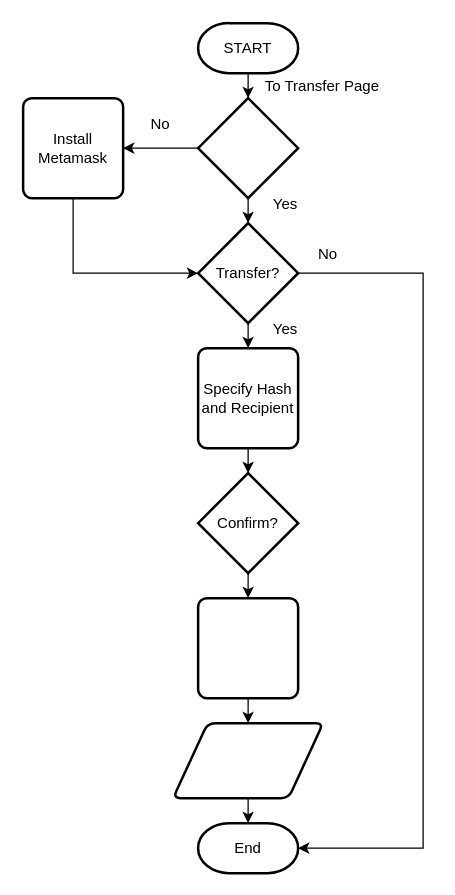
Some shapes in this 455 by 895 pixel diagram are drawn without their labels. Each missing label, with the centre of its shape:
Metamask Installed?: [247,147]
Recieve Transaction Hash: [247,760]
Update Ownership: [247,647]
